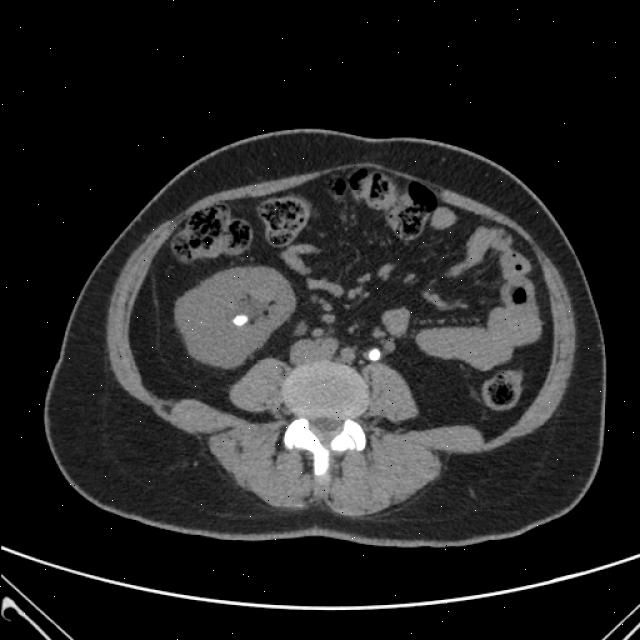kidneystone: (364, 348, 382, 362), (232, 314, 249, 326)
